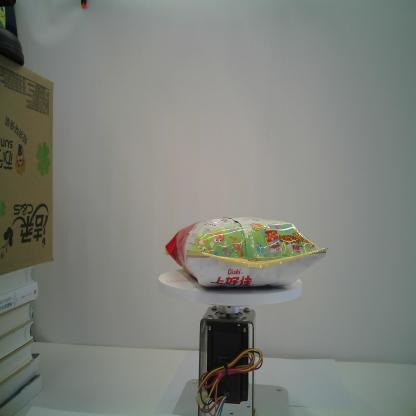Puffed Food: (163, 214, 329, 290)
